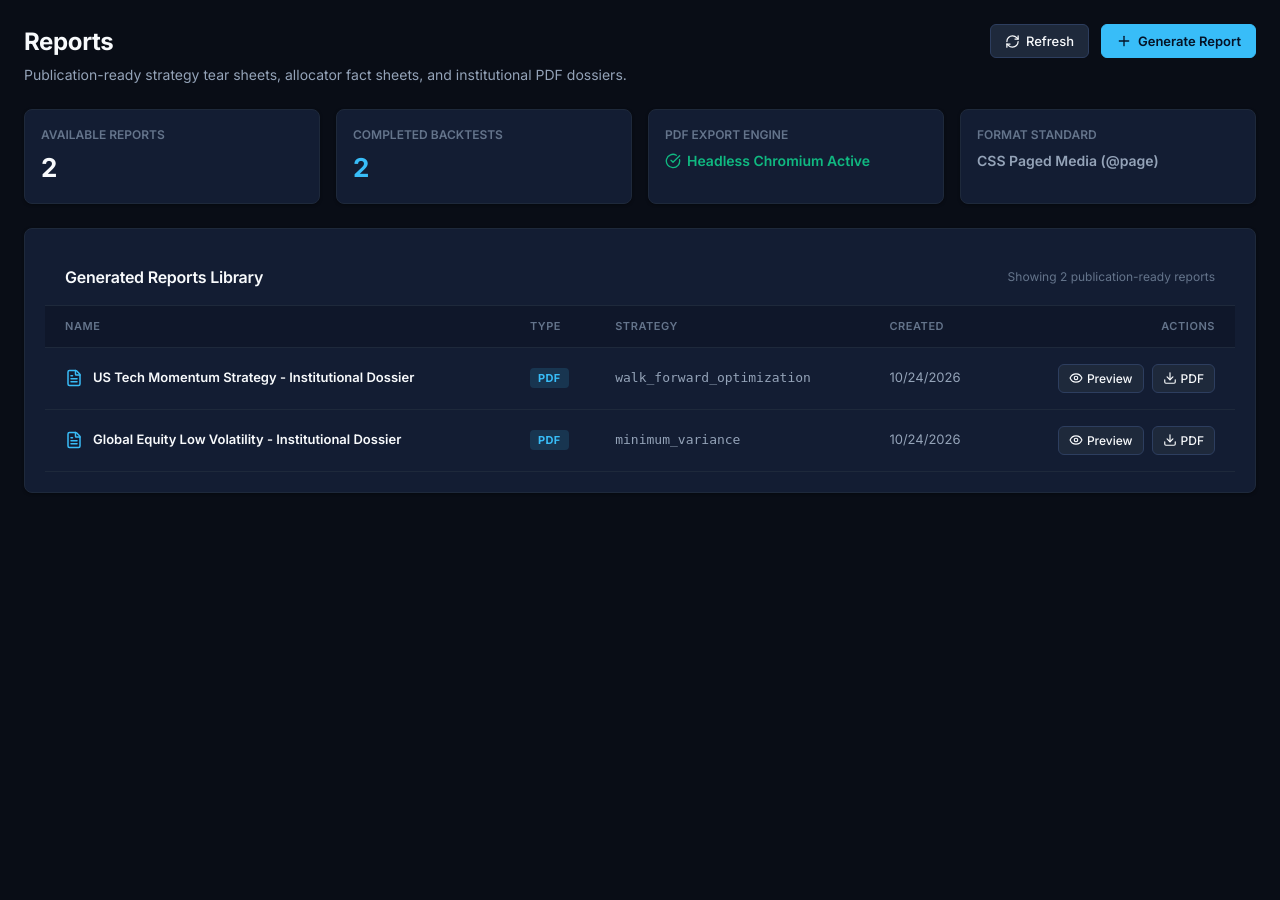
ReportsPage (Mockup 11: Reports Library & Mockup 12: PDF Report Preview) › opens and closes the Generate Report modal dialog
This screenshot has width=1280, height=900.
Expected: the text "US Tech Momentum Strategy - Institutional Dossier" is shown, [93, 368, 414, 388]
// Click Generate Report button
What coordinates should you click on to do the following:
click the button "Generate Report"
I would click on:
 (1178, 41)
Its box is [1101, 24, 1256, 58].
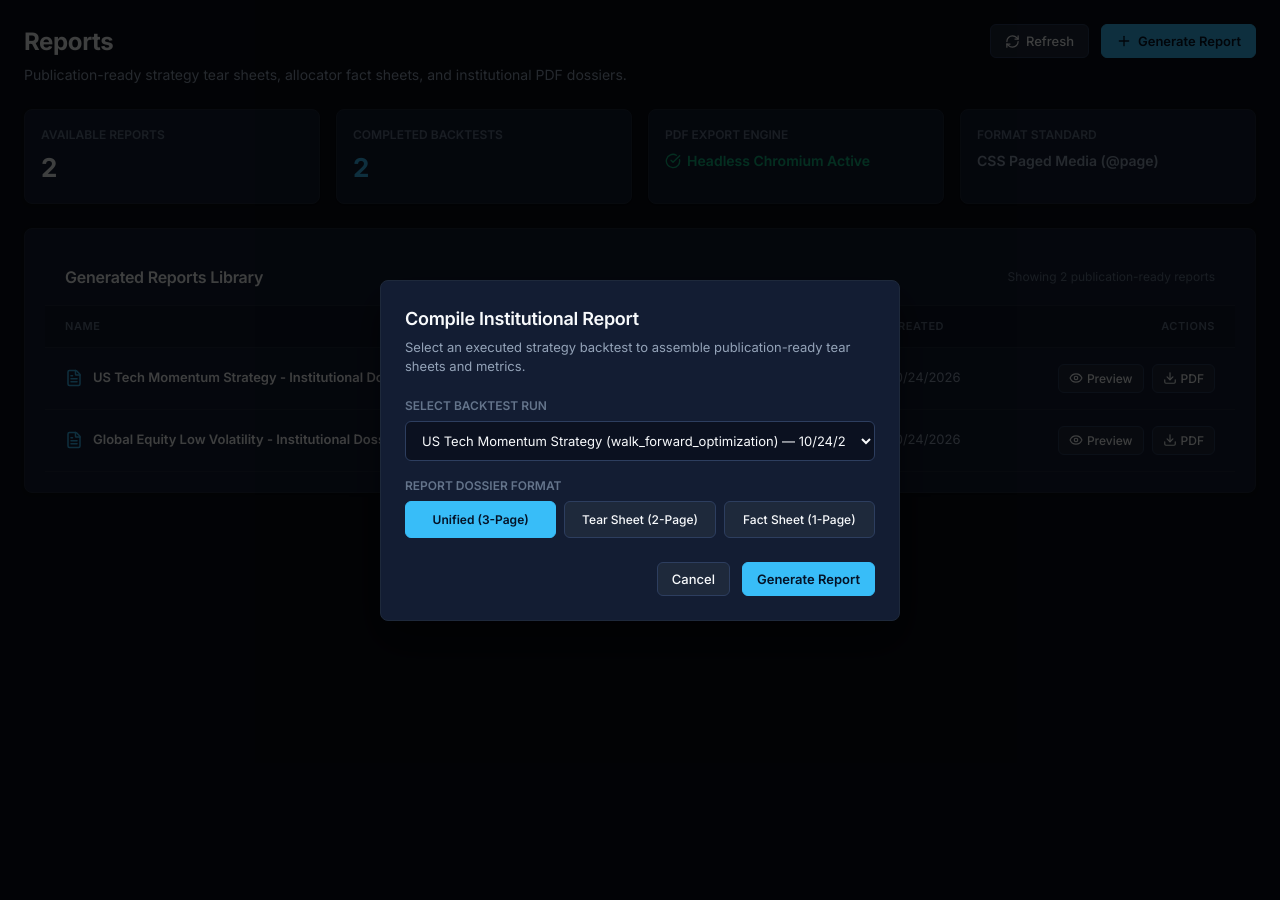
Expected: the heading "Compile Institutional Report" is shown, [405, 308, 639, 328]
Expected: the text "Report Dossier Format" is shown, [405, 478, 562, 492]
// Close modal via Cancel button
What coordinates should you click on to do the following:
click the button "Cancel"
I would click on:
 (693, 578)
Its box is [657, 562, 730, 596].
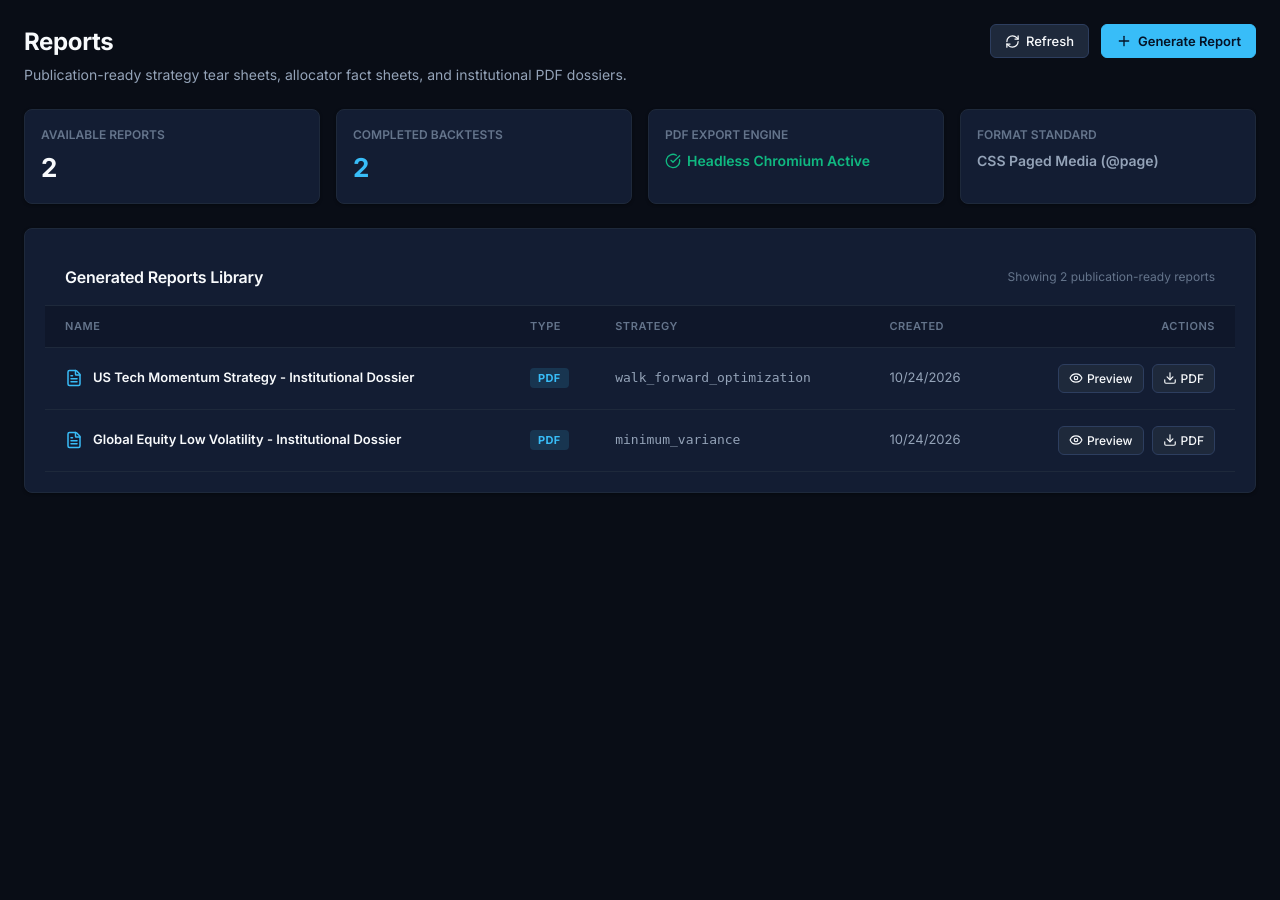
Expected: the heading "Compile Institutional Report" is gone
